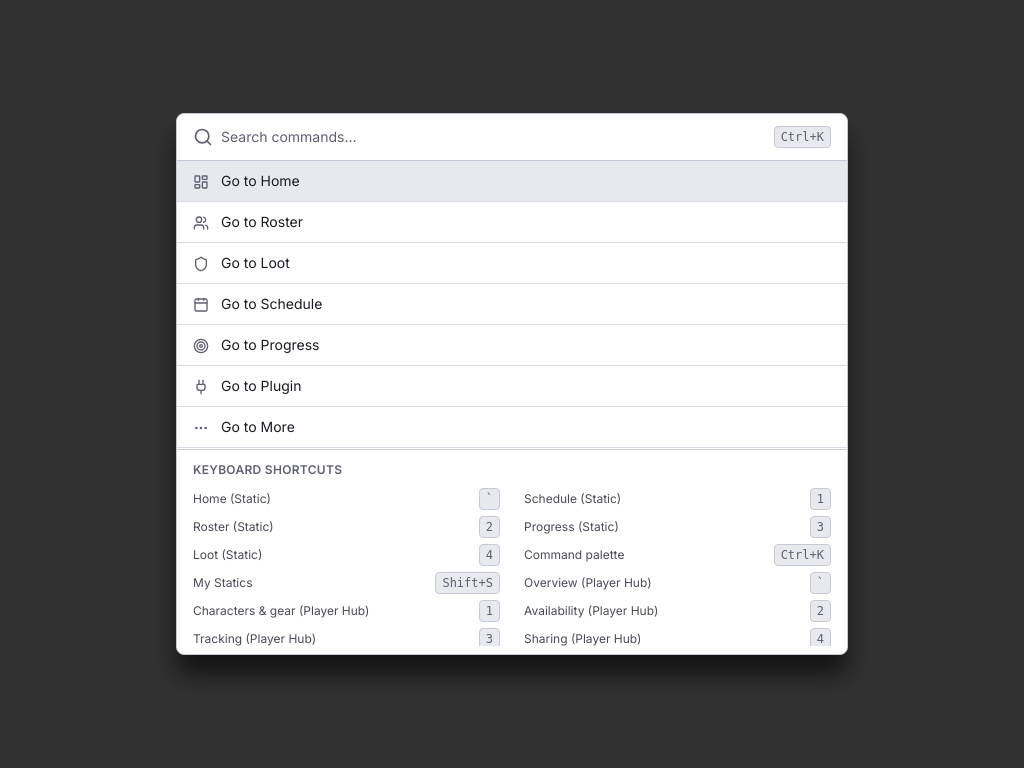
it: CommandPalette Open Settings gate (GUEST-1 R-G1-5) › a guest typing "settings" gets "No commands found."
Type "settings" into the dropdown labelled "Search commands" at (493,137), box [221,127,766,147]
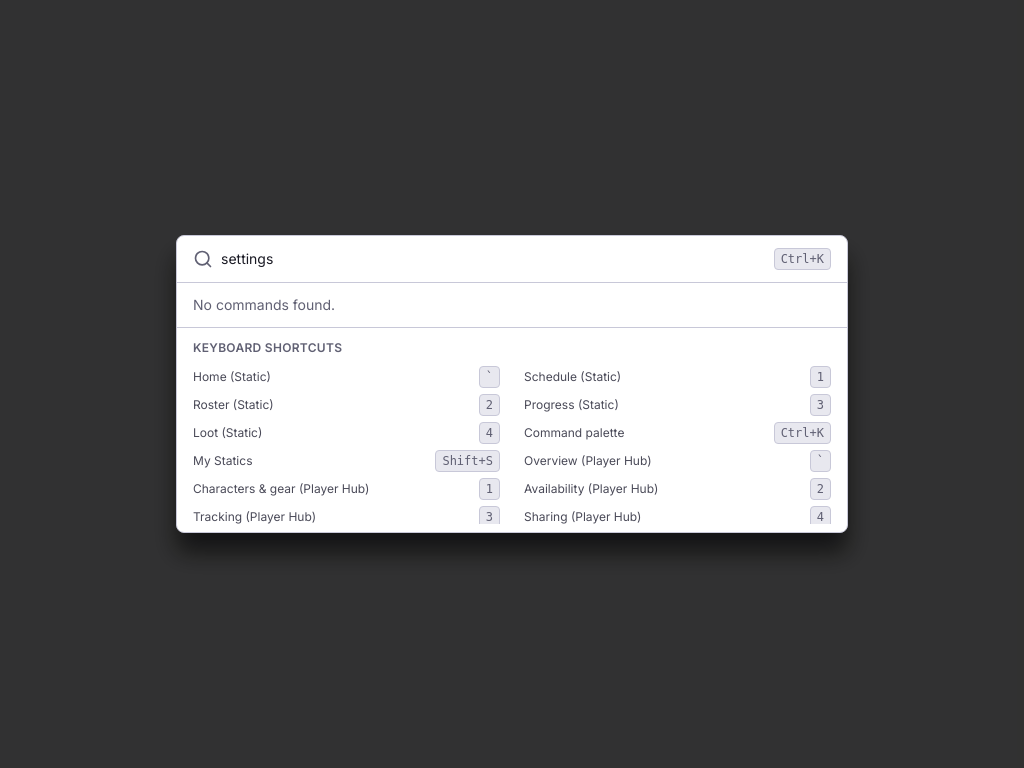
Result: the text "No commands found." is shown at [193,296,335,313]
